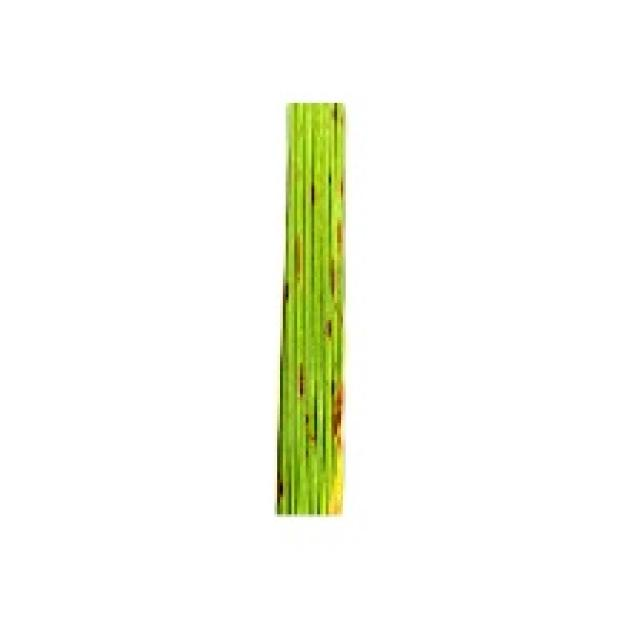Unhealthy: (326, 381, 344, 516), (305, 381, 318, 459), (294, 235, 303, 280), (335, 217, 343, 256), (277, 468, 285, 505), (331, 260, 335, 299), (331, 102, 338, 124), (300, 362, 304, 400), (337, 180, 343, 200), (311, 182, 315, 207), (285, 282, 289, 303), (328, 319, 332, 338), (329, 174, 331, 186)
